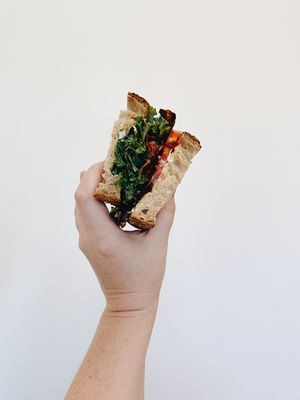sandwich: (93, 91, 202, 233)
